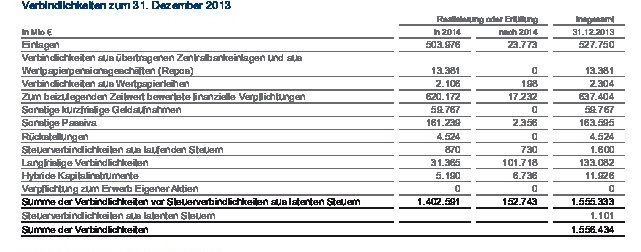table: (0, 0, 641, 252)
